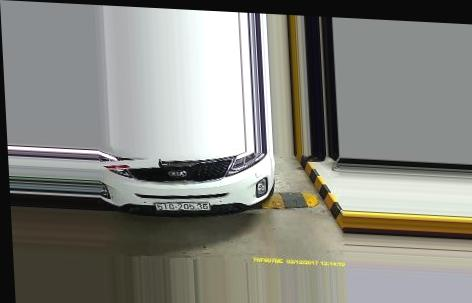License_Plate: (152, 197, 213, 214)
